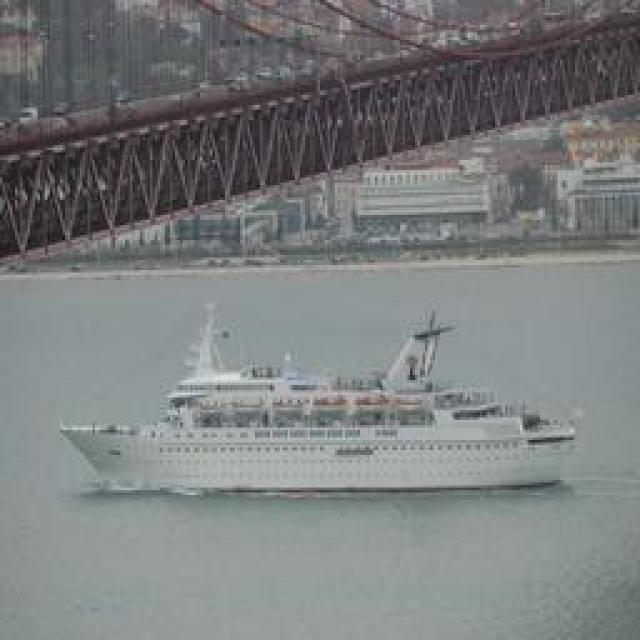Ship: (50, 305, 590, 500)
